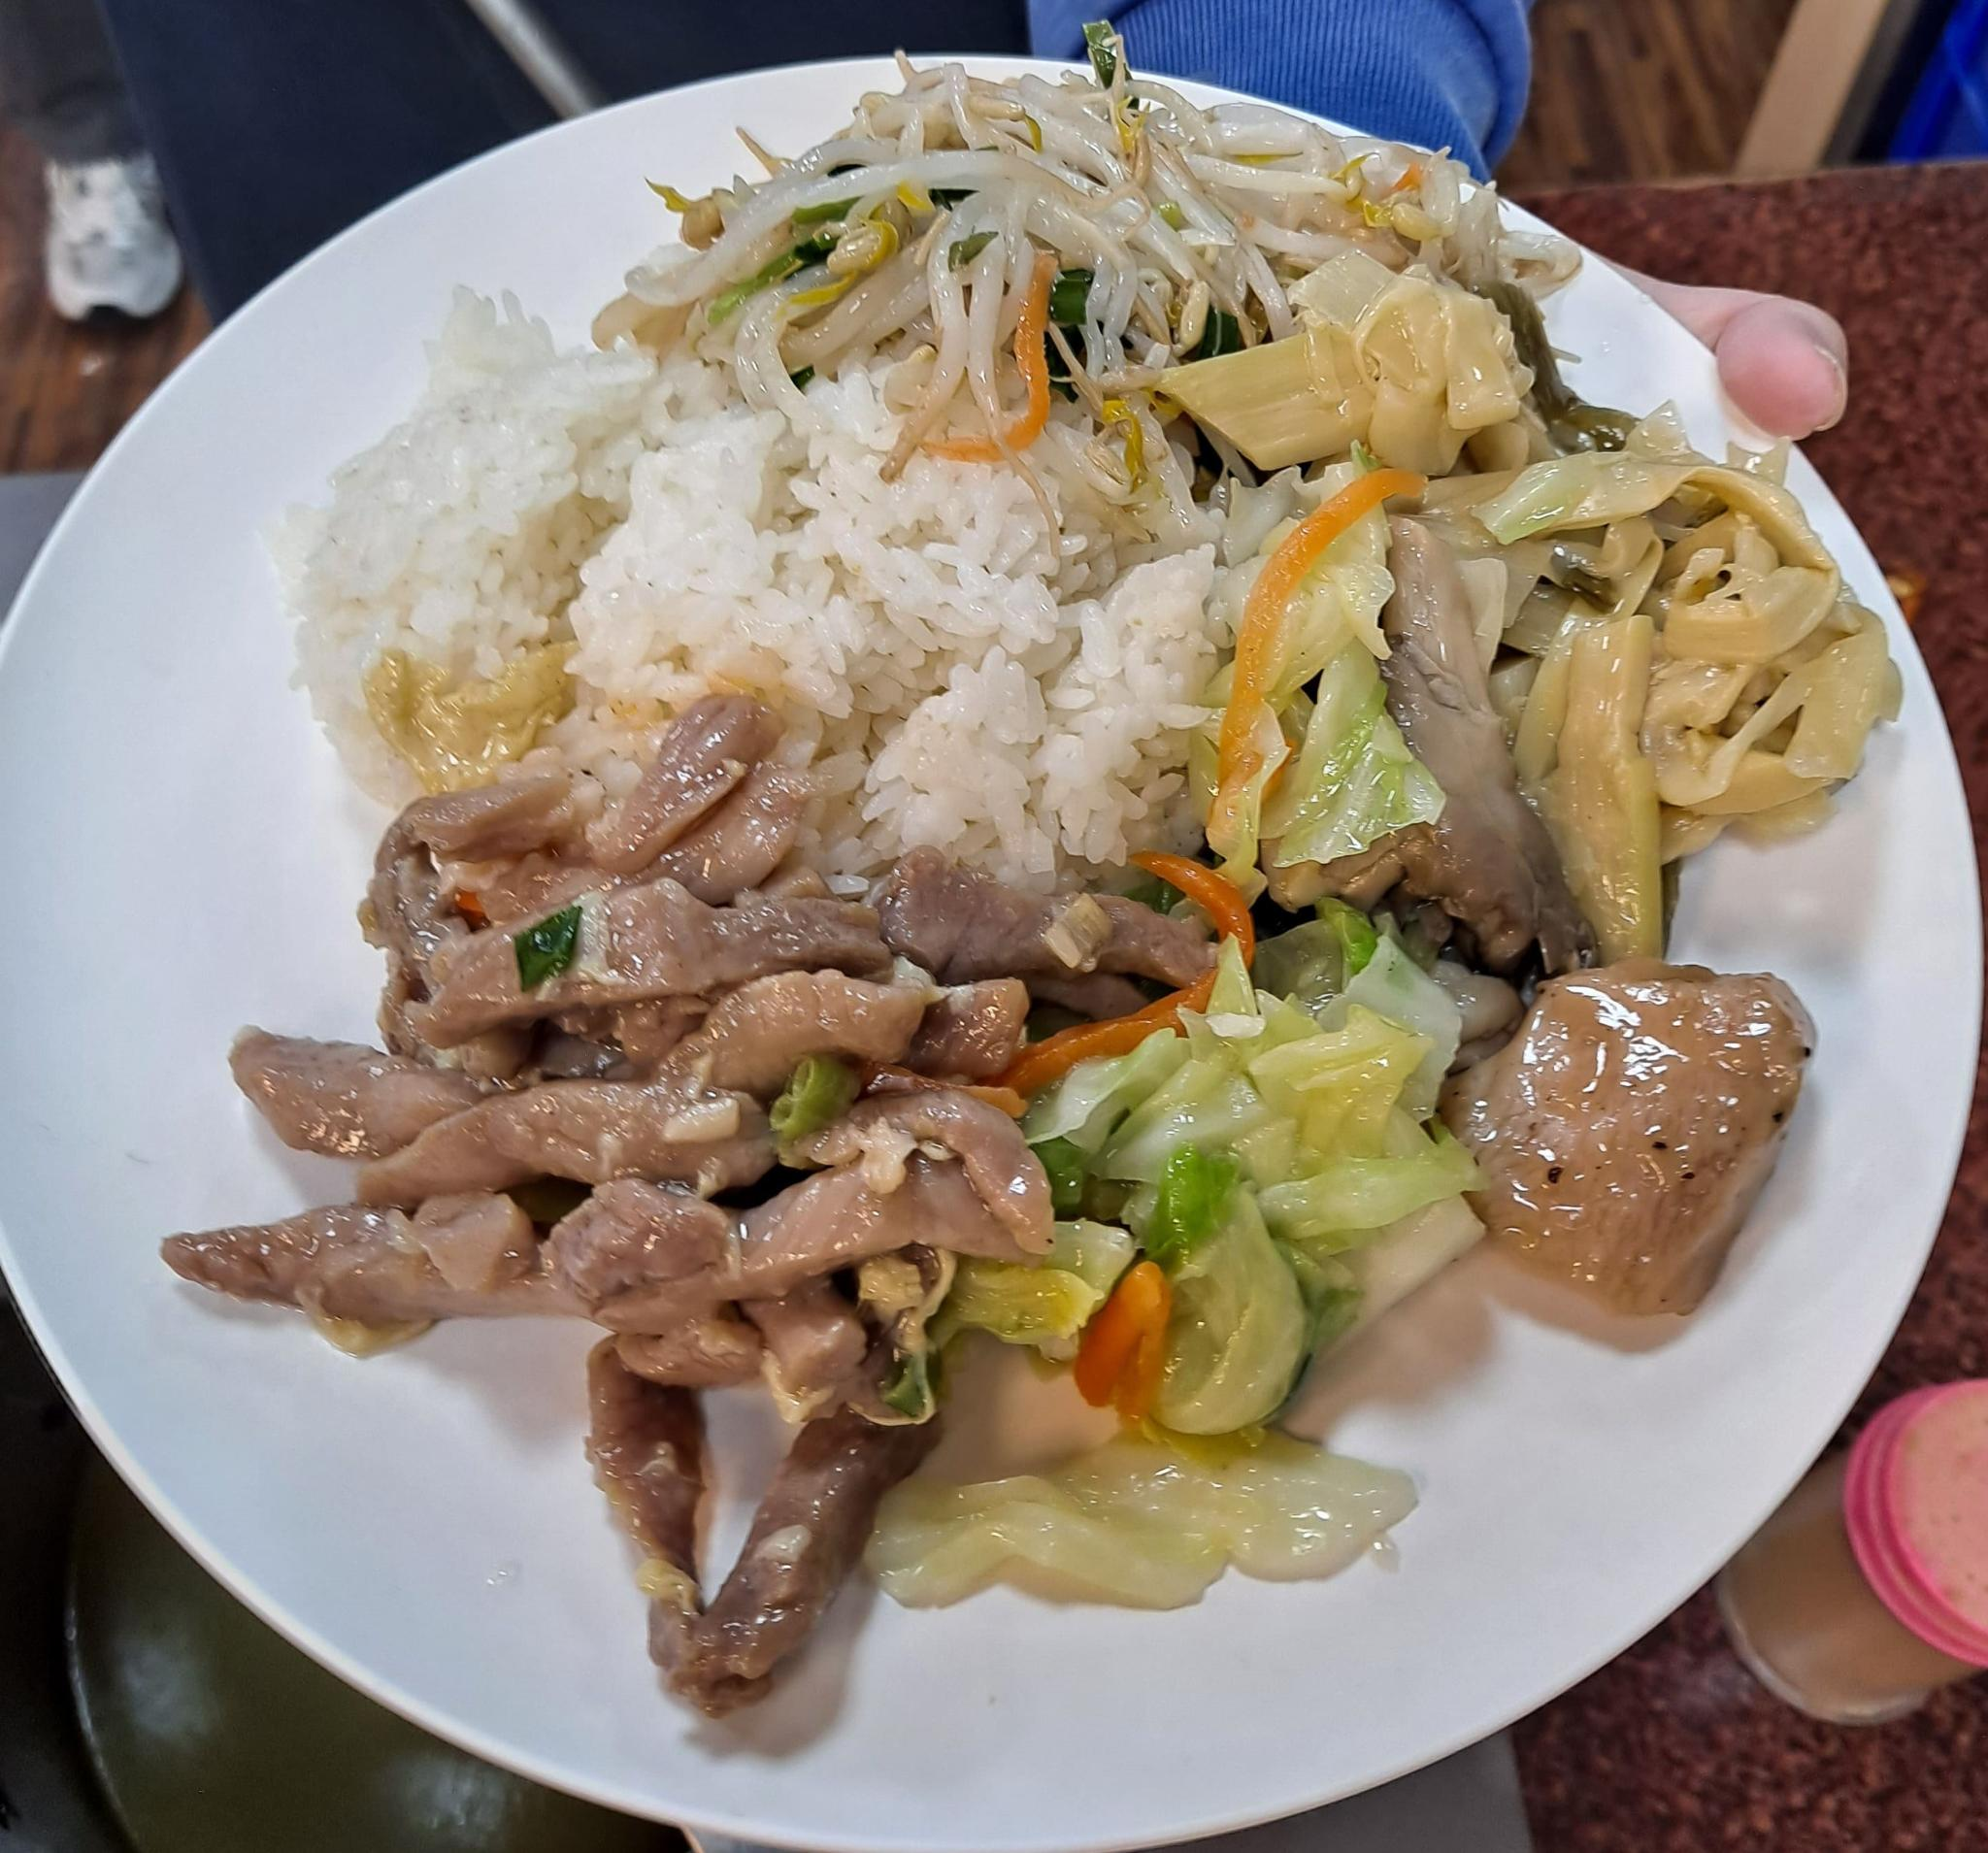big fried chicken leg: (3, 52, 1986, 1853)
big herbal chicken leg: (287, 322, 1220, 888)
braised fish fillet: (1196, 287, 1908, 963), (869, 921, 1495, 1613), (635, 63, 1551, 439)
braised pork: (176, 721, 1191, 1742)
